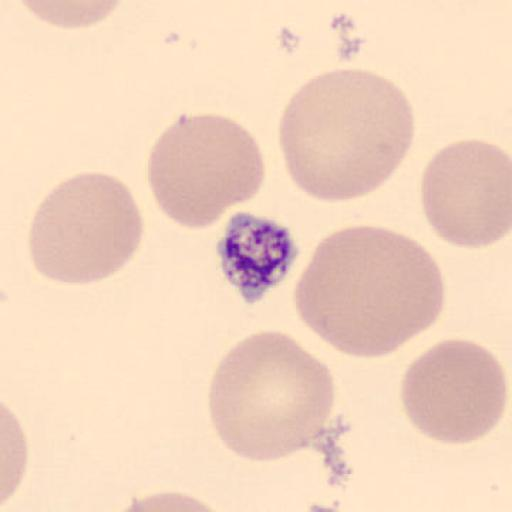Platelet: (214, 210, 302, 306)
RBC: (293, 224, 447, 360), (276, 67, 417, 204), (206, 328, 336, 462), (145, 112, 266, 232), (27, 171, 145, 286), (400, 338, 508, 446), (419, 136, 512, 249), (12, 0, 127, 31), (0, 403, 30, 511), (107, 489, 239, 512)
